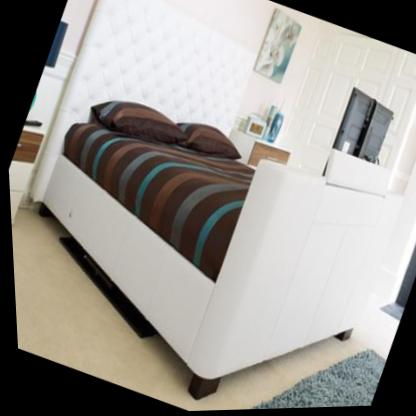Bed: (38, 65, 399, 399)
Carpet: (246, 353, 381, 411)
